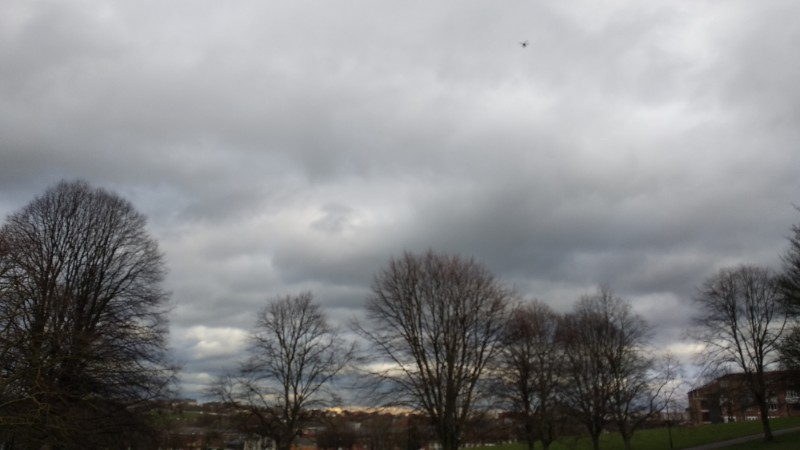drone: (519, 41, 531, 50)
